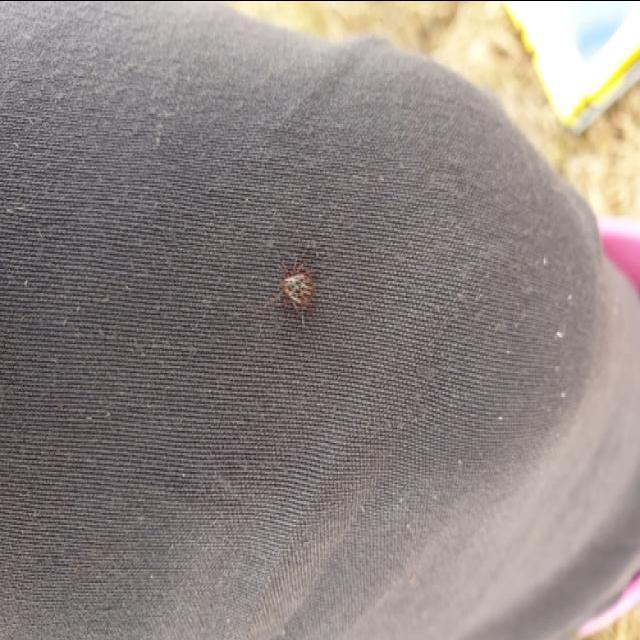Dermacentor Reticulatus-M: (268, 253, 319, 326)
